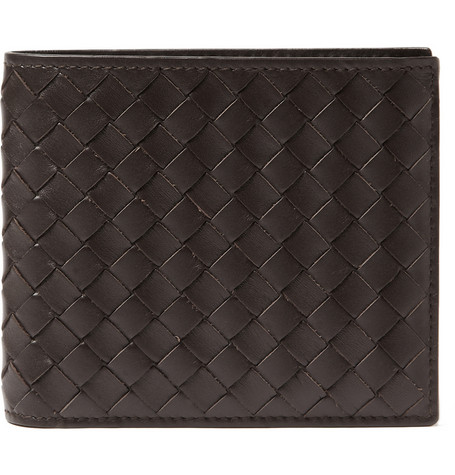monedero: (1, 44, 441, 430)
